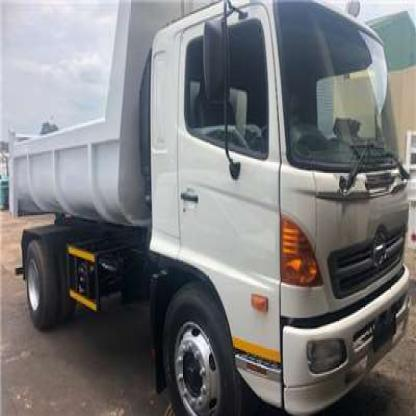dump_truck: (6, 3, 415, 415)
